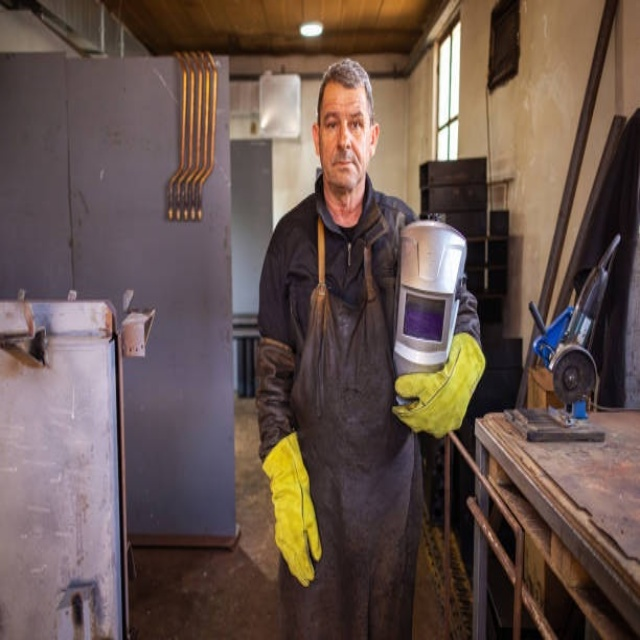Guantes: (393, 333, 486, 438), (262, 431, 321, 585)
Sin_gafas: (319, 104, 366, 138)
Sin_mascara: (328, 154, 356, 187)
